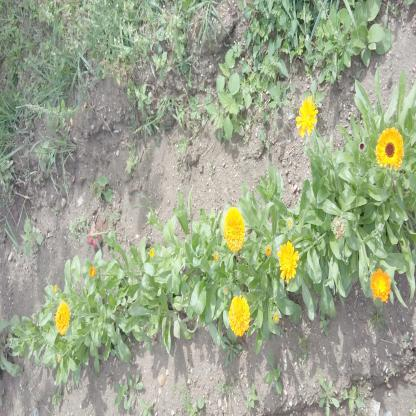marigold: (376, 127, 404, 170), (223, 204, 245, 250), (228, 294, 250, 337), (295, 97, 317, 140), (278, 242, 298, 279), (370, 266, 390, 302), (55, 305, 69, 331)
